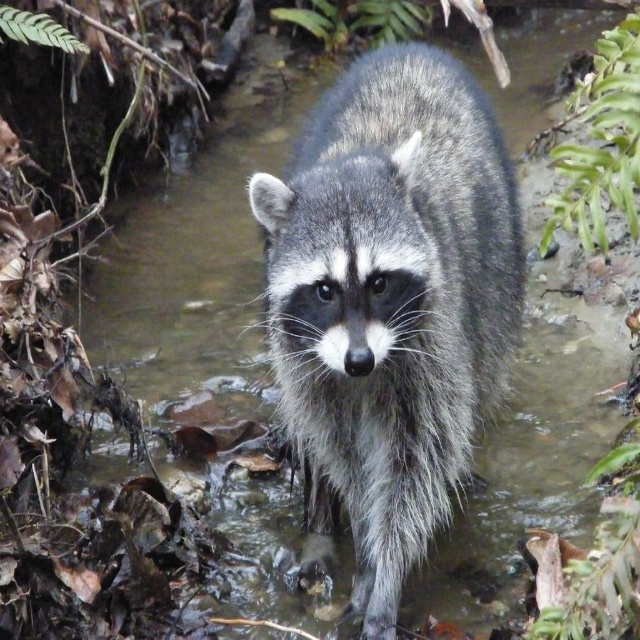Raccoon: (231, 43, 529, 639)
